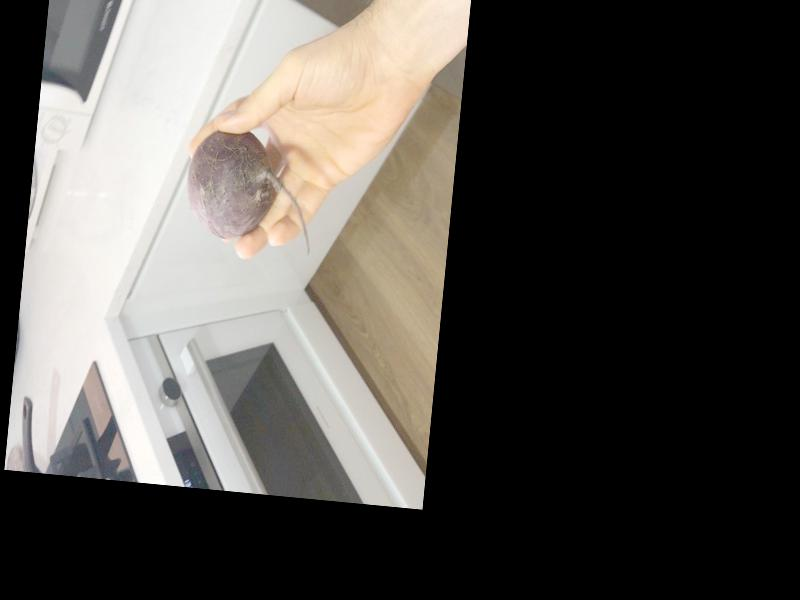Beet: (181, 126, 321, 257)
